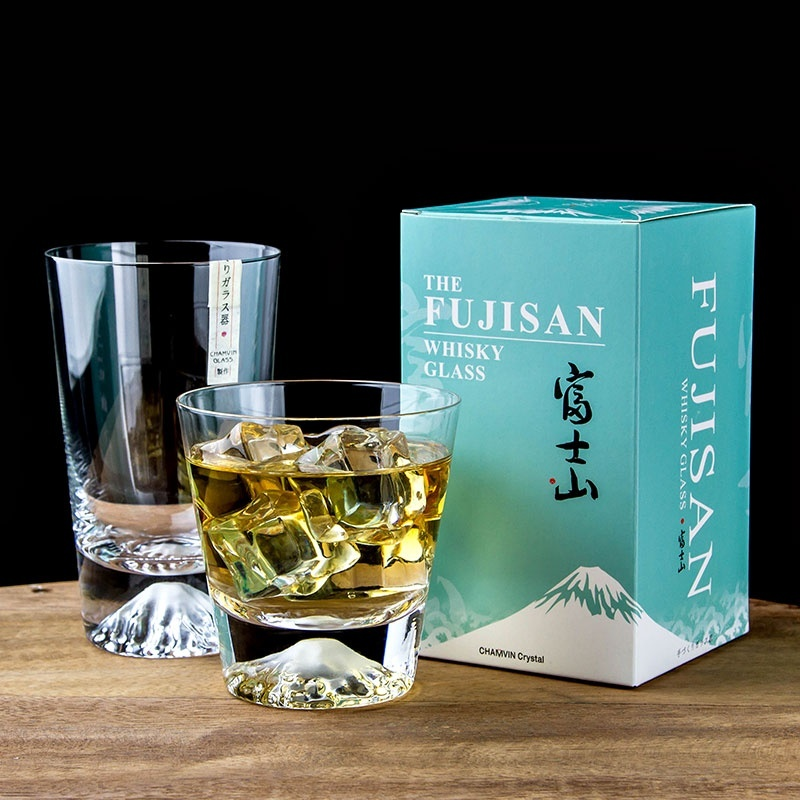whiskey: (182, 371, 430, 702)
